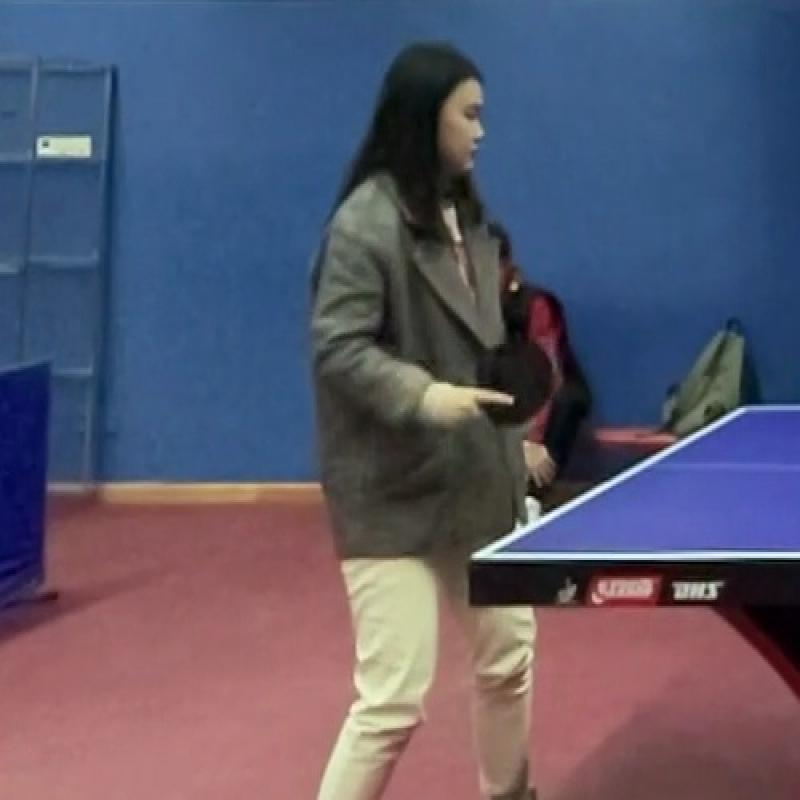bats: (471, 334, 563, 444)
